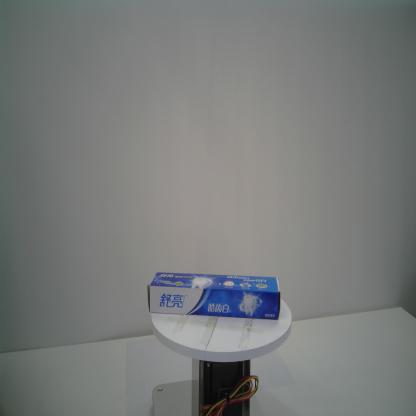Personal Hygiene: (143, 269, 282, 324)
